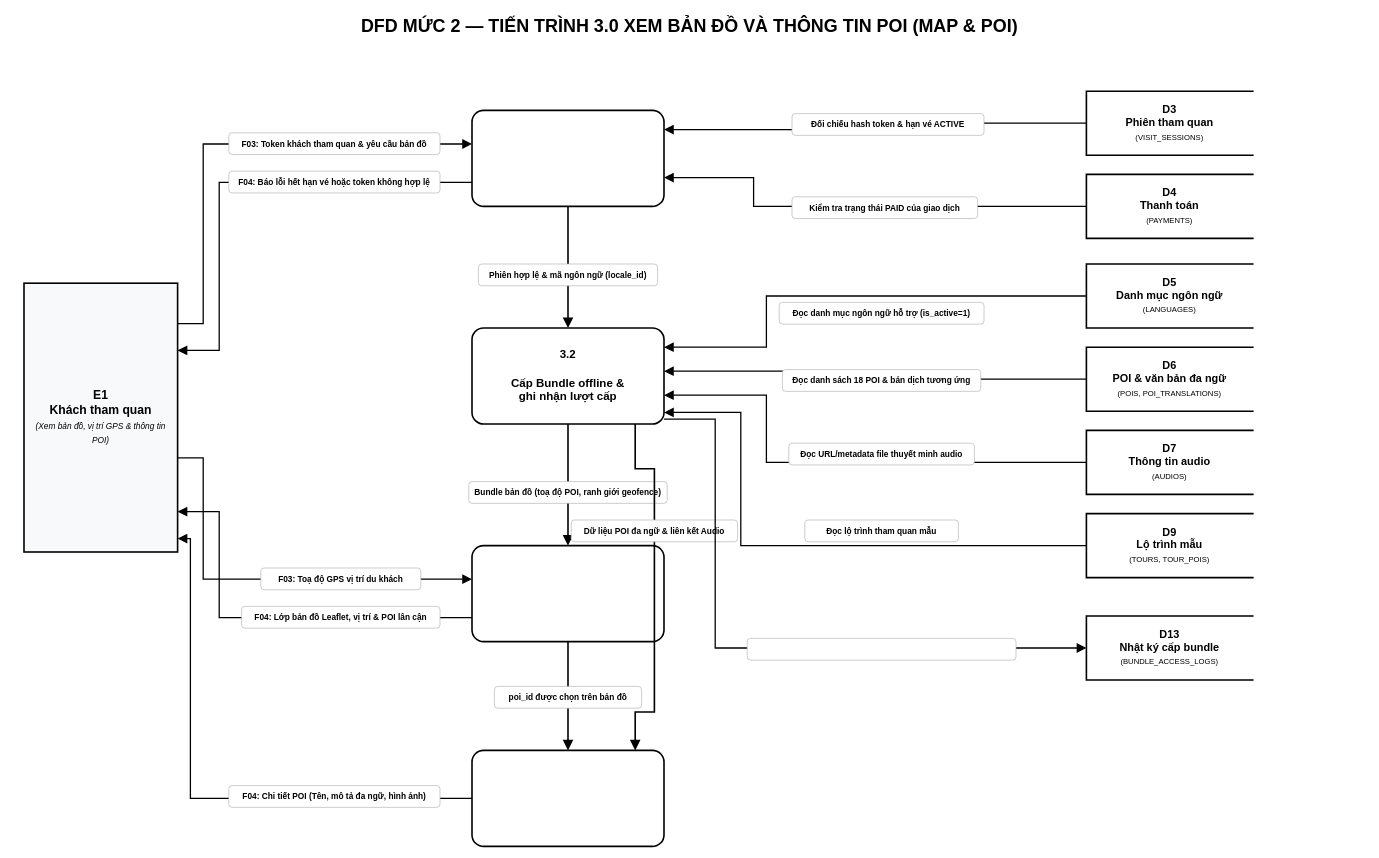
Image size: 1379x858. Some labels were removed from this diagram. The centre of each missing label's shape, as x and y in pixels:
3.1 Kiểm tra phiên & ngôn ngữ hiện tại: the point at 568,158
3.3 Hiển thị bản đồ, vị trí & điểm lân cận: the point at 568,593
3.4 Hiển thị thông tin chi tiết POI: the point at 568,798
Ghi nhật ký cấp bundle (session_id, locale_id, bundle_version): the point at 881,649
